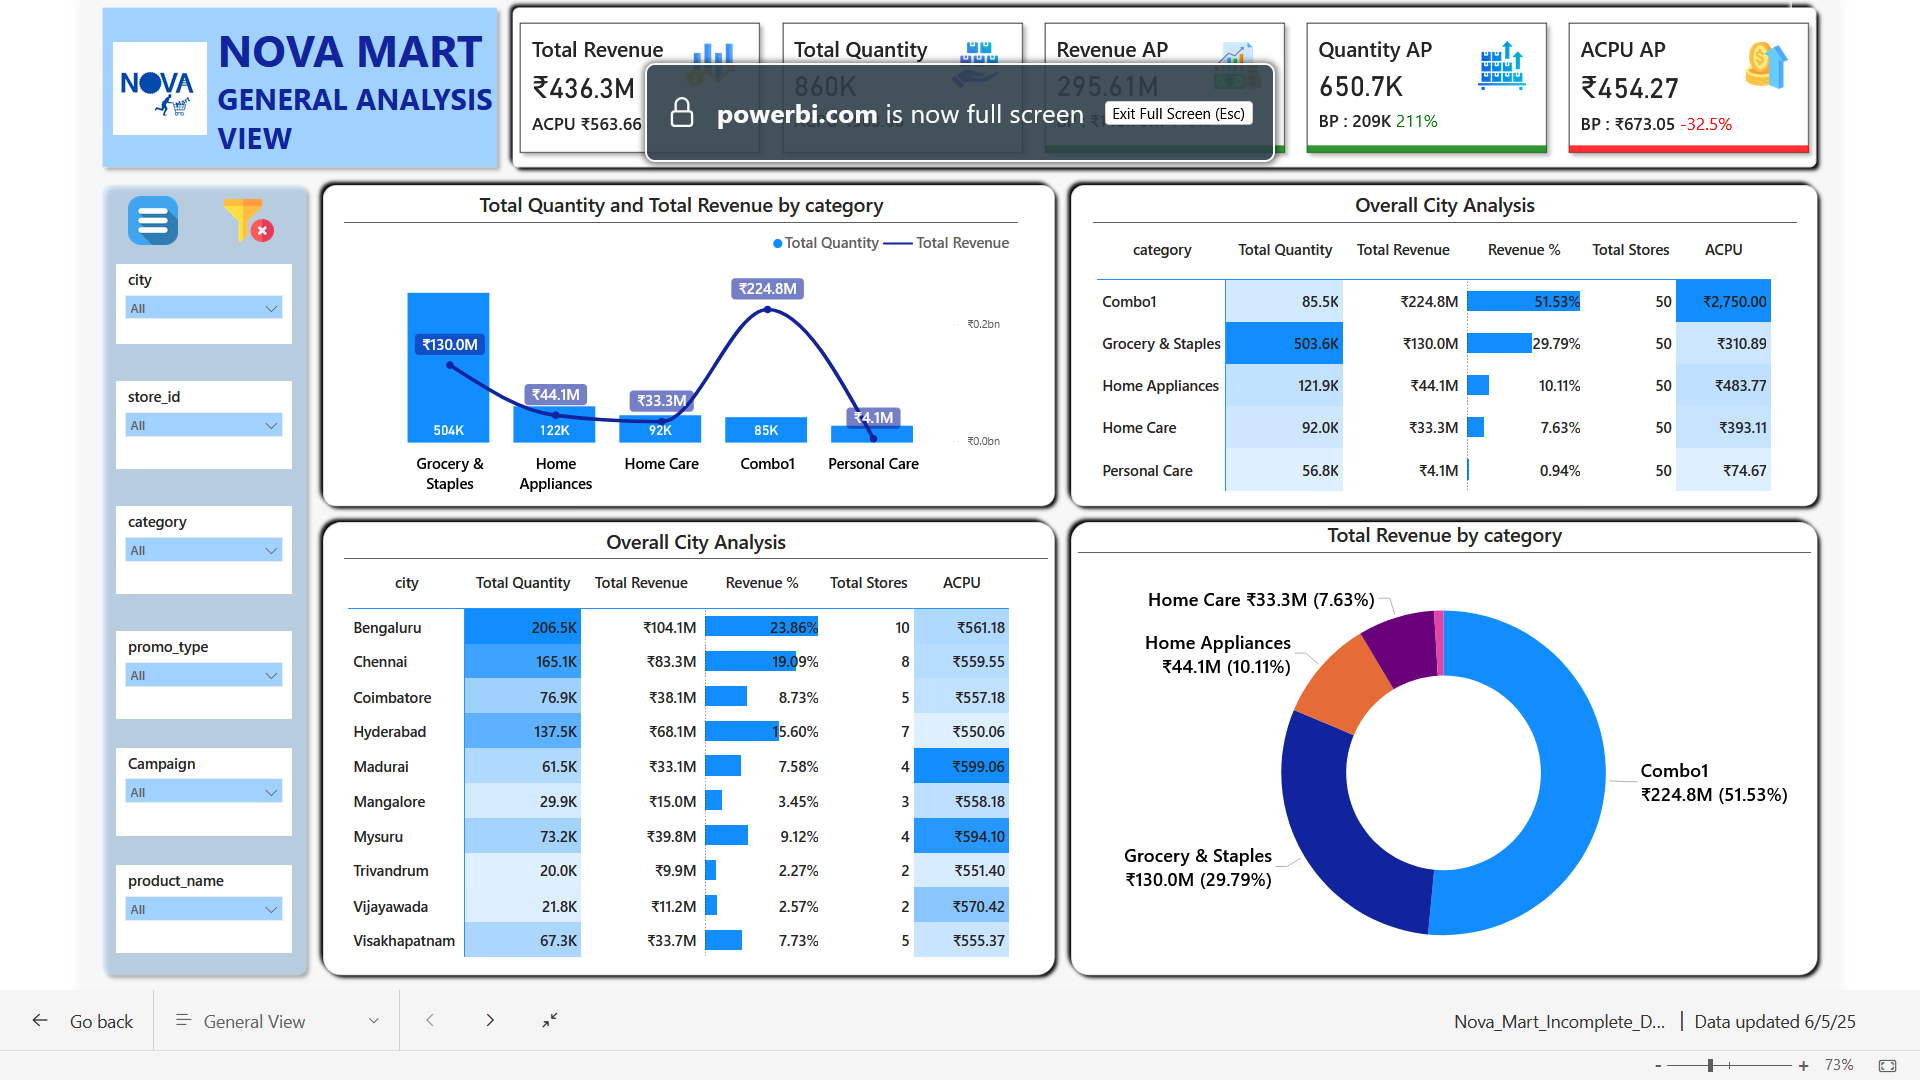

What the dashboard file says about the page in this screenshot:
{"tool":"powerbi","page":{"name":"General View","canvas":[1920,1080],"ordinal":0},"visuals":[{"type":"cardVisual","fields":{"Data":["Measures (2).Total Revenue","Measures (2).Total Quantity","Measures (2).Revenue_After_Promo","Measures (2).Sold_QTY_After_Promo","Measures (2).Average Cost Per Unit After"]},"box":[464,8,1440,176],"z":0,"group":"g1"},{"type":"shape","title":"Border","box":[16,192,240,880],"z":0},{"type":"image","box":[1808,40,64,64],"z":1000,"group":"g1"},{"type":"slicer","fields":{"Values":["dim_stores.store_id"]},"box":[40,416,192,96],"z":1000},{"type":"image","box":[1520,40,64,64],"z":2000,"group":"g1"},{"type":"slicer","fields":{"Values":["dim_stores.city"]},"box":[40,288,192,88],"z":2000},{"type":"image","box":[944,40,64,64],"z":3000,"group":"g1"},{"type":"slicer","fields":{"Values":["dim_products.category"]},"box":[40,552,192,96],"z":3000},{"type":"image","box":[656,40,64,64],"z":4000,"group":"g1"},{"type":"slicer","fields":{"Values":["fact_events.promo_type"]},"box":[40,688,192,96],"z":4000},{"type":"image","box":[1232,40,64,64],"z":5000,"group":"g1"},{"type":"slicer","fields":{"Values":["dim_campaigns.campaign_name"]},"box":[40,816,192,96],"z":5000},{"type":"slicer","fields":{"Values":["dim_products.product_name"]},"box":[40,944,192,96],"z":6000},{"type":"shape","box":[16,0,448,192],"z":7000},{"type":"image","box":[48,208,64,64],"z":8000},{"type":"shape","title":"Border","box":[464,0,1440,192],"z":9000},{"type":"image","box":[32,16,112,160],"z":10000},{"type":"textbox","box":[144,16,336,96],"z":11000},{"type":"textbox","box":[144,80,320,96],"z":12000},{"type":"shape","title":"Border","box":[464,0,1440,192],"z":13000},{"type":"group","id":"g1","title":"Group 1","box":[464,8,1440,176],"z":14000},{"type":"shape","title":"Border","box":[1072,192,832,368],"z":15000},{"type":"shape","title":"Border","box":[1072,560,832,512],"z":16000},{"type":"shape","title":"Border","box":[256,560,816,512],"z":17000},{"type":"shape","title":"Border","box":[256,192,816,368],"z":18000},{"type":"shape","title":"Border","box":[256,192,816,368],"z":19000},{"type":"shape","title":"Border","box":[256,560,816,512],"z":20000},{"type":"shape","title":"Border","box":[1072,560,832,512],"z":21000},{"type":"shape","title":"Border","box":[1072,192,832,368],"z":22000},{"type":"pivotTable","title":"Overall City Analysis","fields":{"Rows":["dim_stores.city"],"Values":["Measures (2).Total Quantity","Measures (2).Total Revenue","Divide(Measures (2).Total Revenue, ScopedEval(Measures (2).Total Revenue, []))","Count(dim_stores.store_id)","Measures (2).Average Cost per Unit"]},"box":[288,576,768,480],"z":23000},{"type":"donutChart","fields":{"Category":["dim_products.category"],"Y":["Measures (2).Total Revenue"]},"box":[1088,568,800,512],"z":24000},{"type":"lineClusteredColumnComboChart","fields":{"Category":["dim_products.category"],"Y":["Measures (2).Total Quantity"],"Y2":["Measures (2).Total Revenue"]},"box":[288,208,736,336],"z":25000},{"type":"pivotTable","title":"Overall City Analysis","fields":{"Values":["Measures (2).Total Quantity","Measures (2).Total Revenue","Divide(Measures (2).Total Revenue, ScopedEval(Measures (2).Total Revenue, []))","Count(dim_stores.store_id)","Measures (2).Average Cost per Unit"],"Rows":["dim_products.category"]},"box":[1104,208,768,352],"z":26000},{"type":"image","box":[144,208,80,64],"z":27000}]}

Visuals, with their boxes on the page's 1920x1080 design canvas (x1, y1, x2, y2). These are canvas units, not pixel positions in the 1920x1080 screenshot, which may show the page scaled, cropped or inside an application window:
cardVisual - Measures (2).Total Revenue x Measures (2).Total Quantity: BBox(464, 8, 1904, 184)
"Border" shape: BBox(16, 192, 256, 1072)
image: BBox(1808, 40, 1872, 104)
slicer - dim_stores.store_id: BBox(40, 416, 232, 512)
image: BBox(1520, 40, 1584, 104)
slicer - dim_stores.city: BBox(40, 288, 232, 376)
image: BBox(944, 40, 1008, 104)
slicer - dim_products.category: BBox(40, 552, 232, 648)
image: BBox(656, 40, 720, 104)
slicer - fact_events.promo_type: BBox(40, 688, 232, 784)
image: BBox(1232, 40, 1296, 104)
slicer - dim_campaigns.campaign_name: BBox(40, 816, 232, 912)
slicer - dim_products.product_name: BBox(40, 944, 232, 1040)
shape: BBox(16, 0, 464, 192)
image: BBox(48, 208, 112, 272)
"Border" shape: BBox(464, 0, 1904, 192)
image: BBox(32, 16, 144, 176)
textbox: BBox(144, 16, 480, 112)
textbox: BBox(144, 80, 464, 176)
"Border" shape: BBox(464, 0, 1904, 192)
"Group 1" group: BBox(464, 8, 1904, 184)
"Border" shape: BBox(1072, 192, 1904, 560)
"Border" shape: BBox(1072, 560, 1904, 1072)
"Border" shape: BBox(256, 560, 1072, 1072)
"Border" shape: BBox(256, 192, 1072, 560)
"Border" shape: BBox(256, 192, 1072, 560)
"Border" shape: BBox(256, 560, 1072, 1072)
"Border" shape: BBox(1072, 560, 1904, 1072)
"Border" shape: BBox(1072, 192, 1904, 560)
"Overall City Analysis" pivotTable: BBox(288, 576, 1056, 1056)
donutChart - dim_products.category x Measures (2).Total Revenue: BBox(1088, 568, 1888, 1080)
lineClusteredColumnComboChart - dim_products.category x Measures (2).Total Quantity: BBox(288, 208, 1024, 544)
"Overall City Analysis" pivotTable: BBox(1104, 208, 1872, 560)
image: BBox(144, 208, 224, 272)
